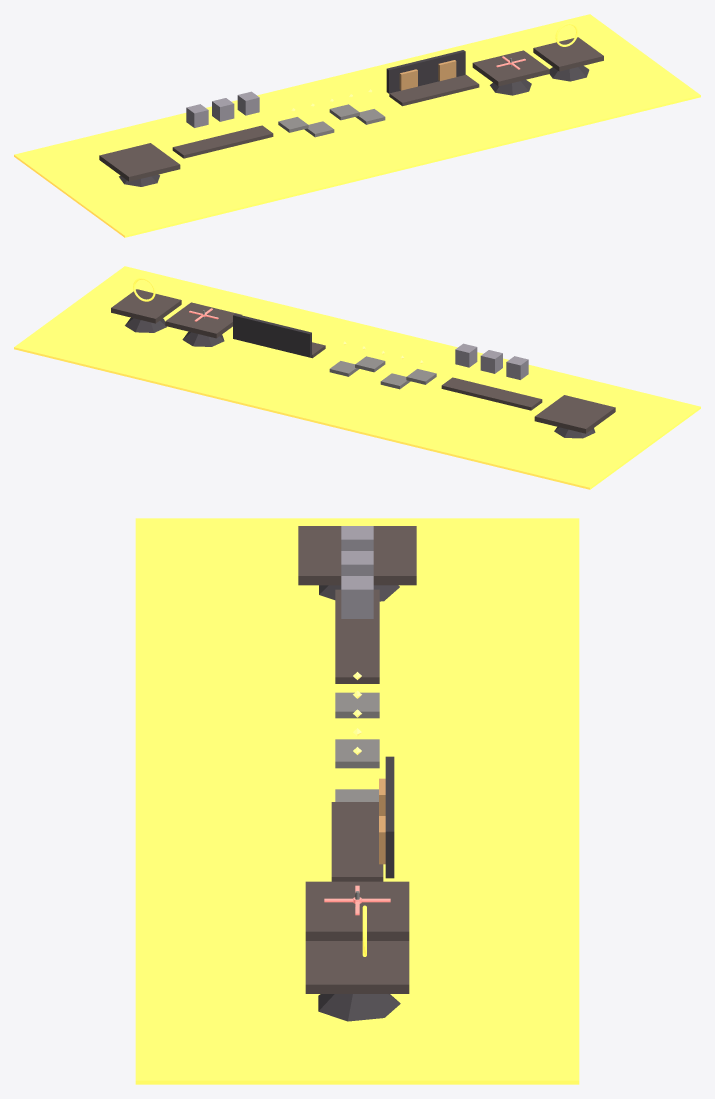
The model's file is lavaschmiede_stage.glb.
The picture shows the model from 3 angles, top to bottom: view 1: azimuth 30°, elevation 25°; view 2: azimuth 150°, elevation 25°; view 3: azimuth 270°, elevation 25°; orthographic projection. The views are drawn at different scales.
Parts seen in each view (by area): view 1: LavaSee, LavaStart, LavaRotorInsel, LavaRueckwand, LavaZiel, LavaSteg1, LavaSteg2, LavaStampfer1, LavaStampfer3, LavaStampfer2, LavaZielSockel, LavaRotorInselSockel; view 2: LavaSee, LavaRueckwand, LavaStart, LavaRotorInsel, LavaZiel, LavaSteg1, LavaStampfer1, LavaStampfer3, LavaStampfer2, LavaZielSockel, LavaRotorInselSockel; view 3: LavaSee, LavaRotorInsel, LavaZiel, LavaStart, LavaSteg2, LavaSteg1, LavaZielSockel, LavaStampfer3, LavaRueckwand, LavaSinker3, LavaSinker1.
Part boxes in pixels (x1,y1,x2,y2): LavaSee: (14, 14, 700, 237); LavaStart: (99, 143, 180, 181); LavaRotorInsel: (472, 50, 549, 86); LavaRueckwand: (386, 50, 465, 93); LavaZiel: (533, 37, 603, 71); LavaSteg1: (172, 125, 273, 158); LavaSteg2: (389, 75, 479, 106); LavaStampfer1: (186, 104, 208, 127); LavaStampfer3: (237, 91, 259, 115); LavaStampfer2: (212, 98, 234, 121); LavaZielSockel: (549, 65, 589, 81); LavaRotorInselSockel: (490, 80, 531, 95); LavaSee: (14, 266, 700, 489); LavaRueckwand: (233, 314, 311, 357); LavaStart: (534, 395, 615, 433); LavaRotorInsel: (165, 302, 242, 338); LavaZiel: (111, 289, 181, 323); LavaSteg1: (441, 377, 542, 410); LavaStampfer1: (506, 356, 528, 379); LavaStampfer3: (455, 343, 477, 367); LavaStampfer2: (480, 350, 502, 373); LavaZielSockel: (125, 317, 166, 332); LavaRotorInselSockel: (182, 332, 224, 346); LavaSee: (135, 518, 579, 1084); LavaRotorInsel: (305, 881, 409, 940); LavaZiel: (305, 941, 409, 993); LavaStart: (298, 526, 416, 585); LavaSteg2: (331, 802, 383, 881); LavaSteg1: (335, 589, 379, 683); LavaZielSockel: (318, 994, 400, 1021); LavaStampfer3: (341, 576, 373, 618); LavaRueckwand: (385, 756, 394, 878); LavaSinker3: (335, 742, 379, 768); LavaSinker1: (335, 692, 379, 718).
Bounding box in the file's own units: 90 × 8.6 × 30.
